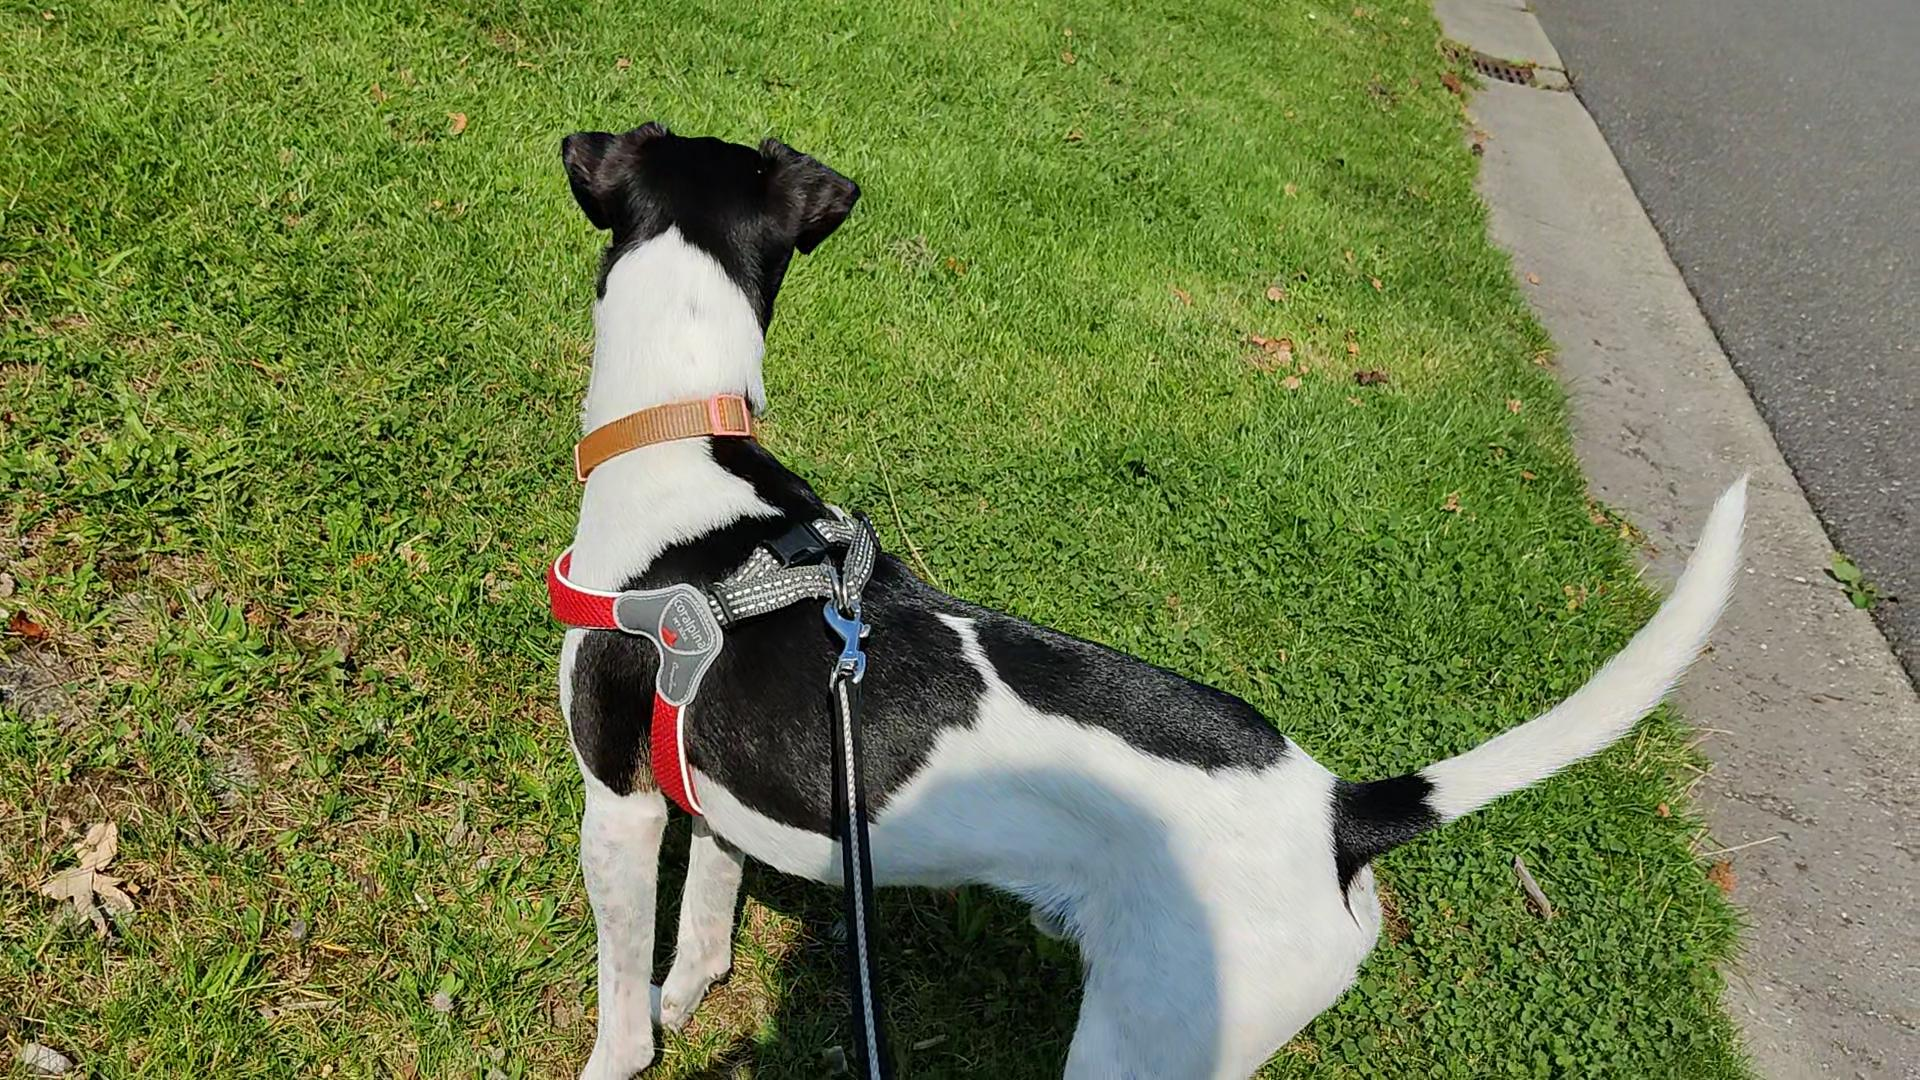Dog: (506, 84, 1774, 1079)
